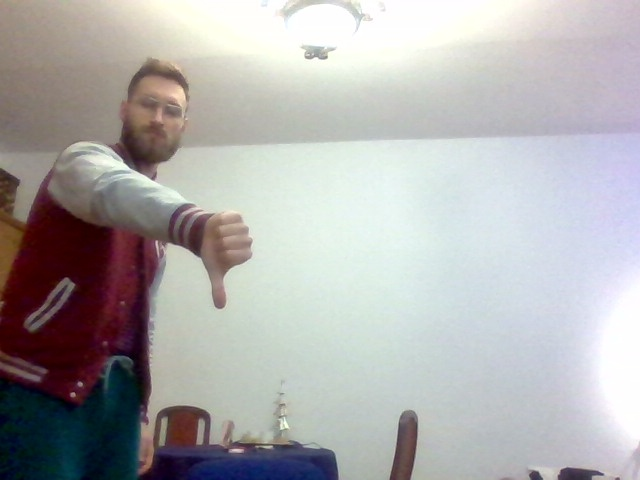ThumbsDown: (201, 211, 253, 309)
